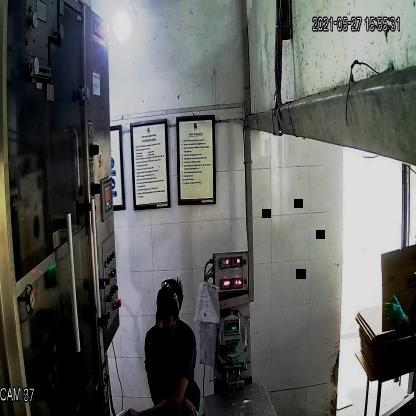no_goggles: (154, 308, 178, 326)
